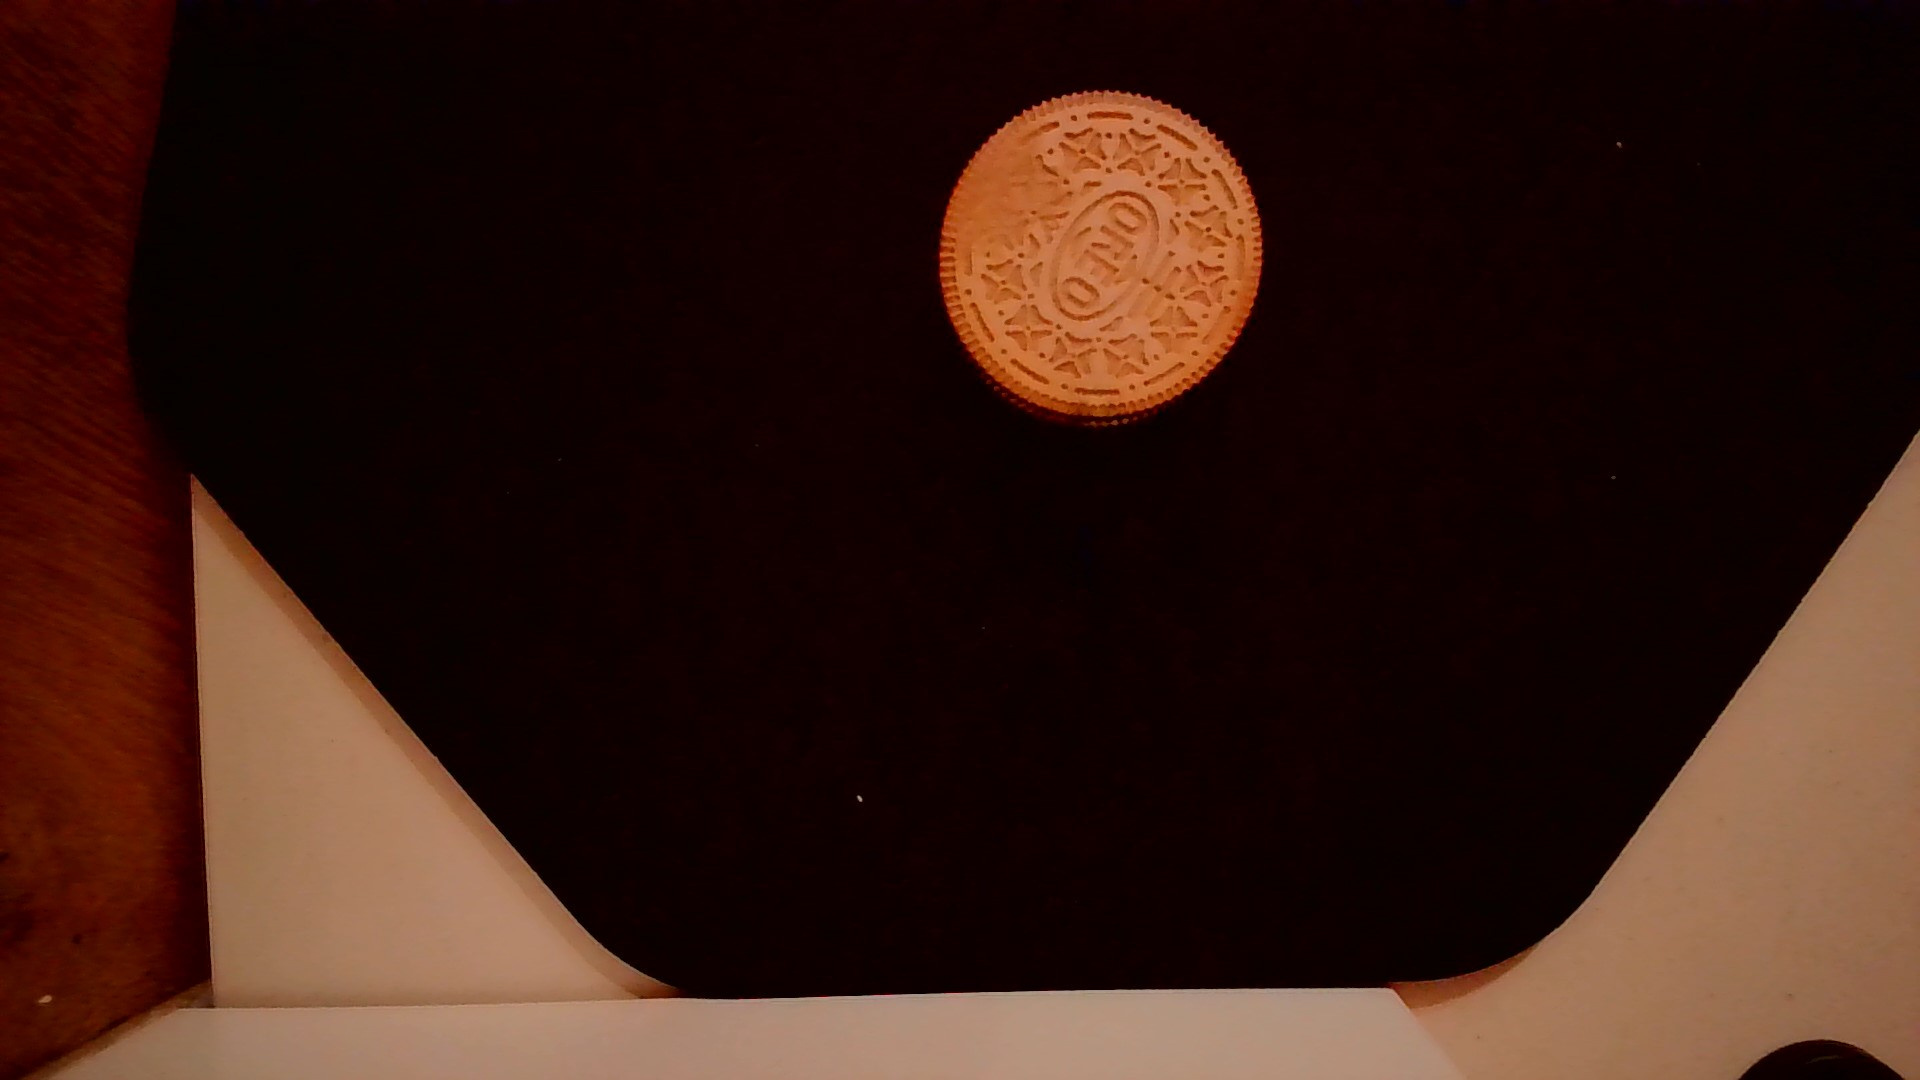Effacé: (935, 116, 1060, 260)
Oréo: (928, 86, 1269, 425)
